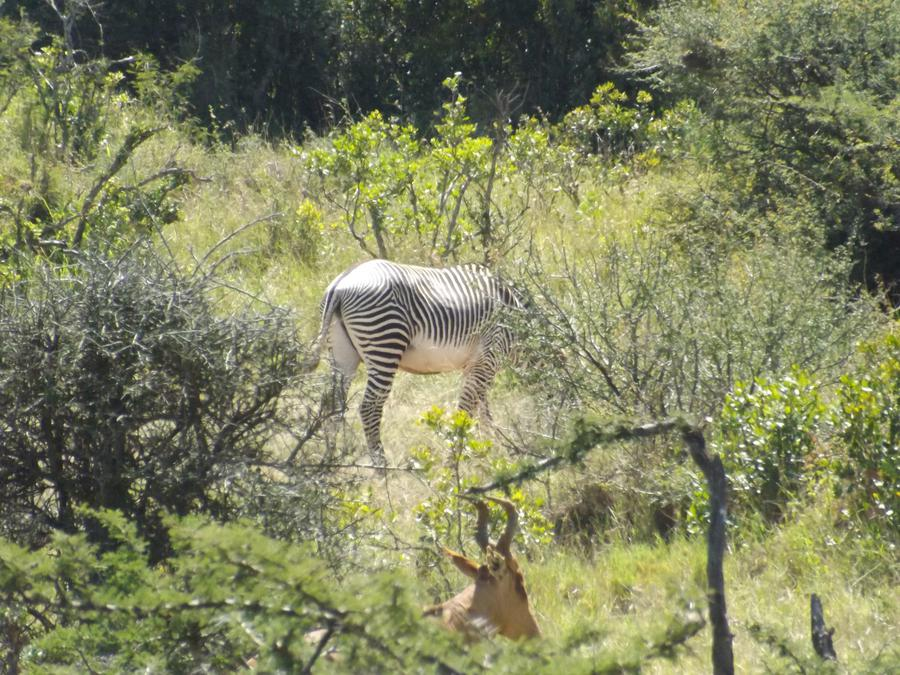zebra_grevys: (334, 242, 480, 369)
